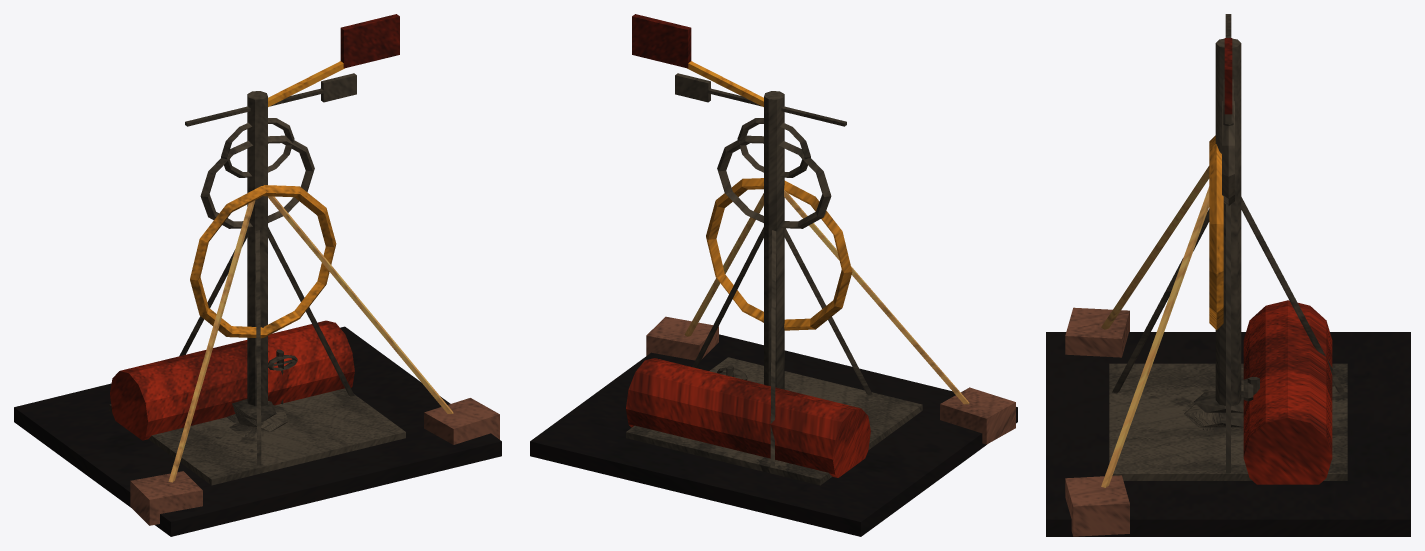
Rendered from west-wind-anchor.glb.
3 renders of one model, left to right at view 1: azimuth 30°, elevation 25°; view 2: azimuth 150°, elevation 25°; view 3: azimuth 270°, elevation 25°, orthographic. The views are drawn at different scales.
Visible parts, largest first — view 1: west-wind-anchor; view 2: west-wind-anchor; view 3: west-wind-anchor.
Boxes of the visible parts, x1,y1,x2,y2 form: west-wind-anchor: (14,14,501,536); west-wind-anchor: (530,14,1017,536); west-wind-anchor: (1046,14,1410,536).
Bounding box in the file's own units: 5.93 × 6.3 × 4.6.
1 material, 1 textured.
